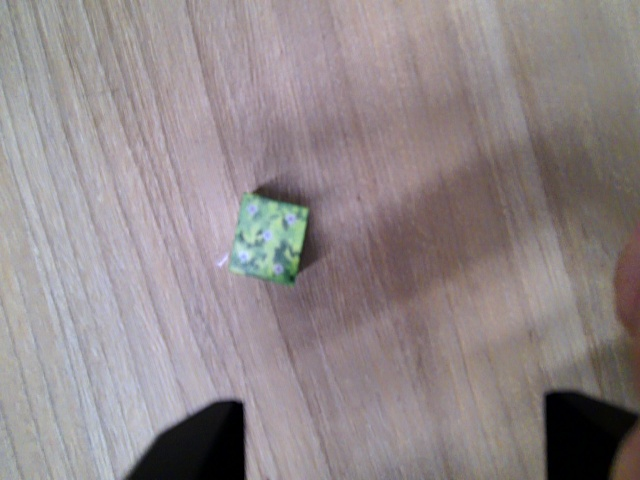grass: (228, 193, 309, 287)
